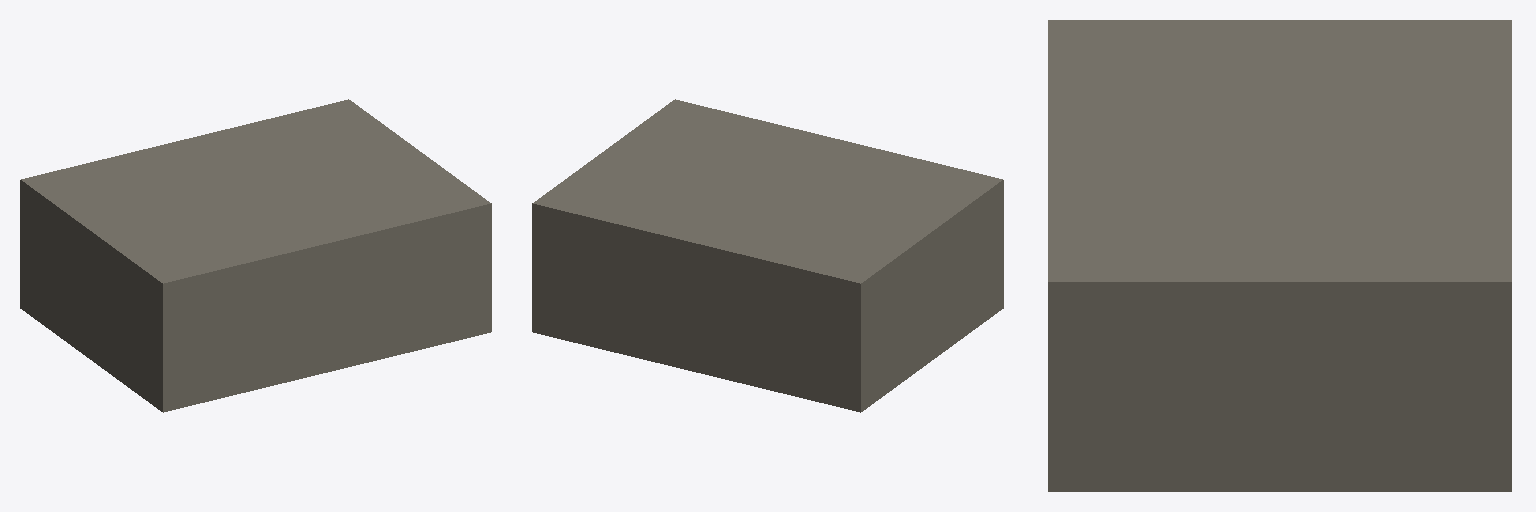
The robot description file, URDF, robot "parttoolgen_brush_sweep_block_wide_table":
<?xml version="1.0"?>
<robot name="parttoolgen_brush_sweep_block_wide_table">
  <link name="box">
    <visual>
      <material name="light_wood">
        <color rgba="0.52 0.50 0.46 1.0"/>
      </material>
      <origin xyz="0 0 0"/>
      <geometry>
        <box size="0.80 0.60 0.30"/>
      </geometry>
    </visual>
    <collision>
      <origin xyz="0 0 0"/>
      <geometry>
        <box size="0.80 0.60 0.30"/>
      </geometry>
    </collision>
    <inertial>
      <mass value="500"/>
      <friction value="1.0"/>
      <inertia ixx="1000.0" ixy="0.0" ixz="0.0" iyy="1000.0" iyz="0.0" izz="1000.0"/>
    </inertial>
  </link>
</robot>

--- What the picture shows (computed from the rendered views, not written in the file) ---
Views: 3 orthographic renders of the robot side by side, from view 1: azimuth 30°, elevation 25°; view 2: azimuth 150°, elevation 25°; view 3: azimuth 270°, elevation 25°.
Model parttoolgen_brush_sweep_block_wide_table with 1 links and 0 joints (none), rooted at box, posed every joint at zero.
Links seen in each view (by area): view 1: box; view 2: box; view 3: box.
Boxes of the visible links, x1,y1,x2,y2 form: box: (20,99,491,412); box: (532,99,1003,412); box: (1048,20,1511,491).
Size in the robot's own frame: 0.8 by 0.6 by 0.3 metres.
Geometry: primitives only (box / cylinder / sphere), no mesh files.
